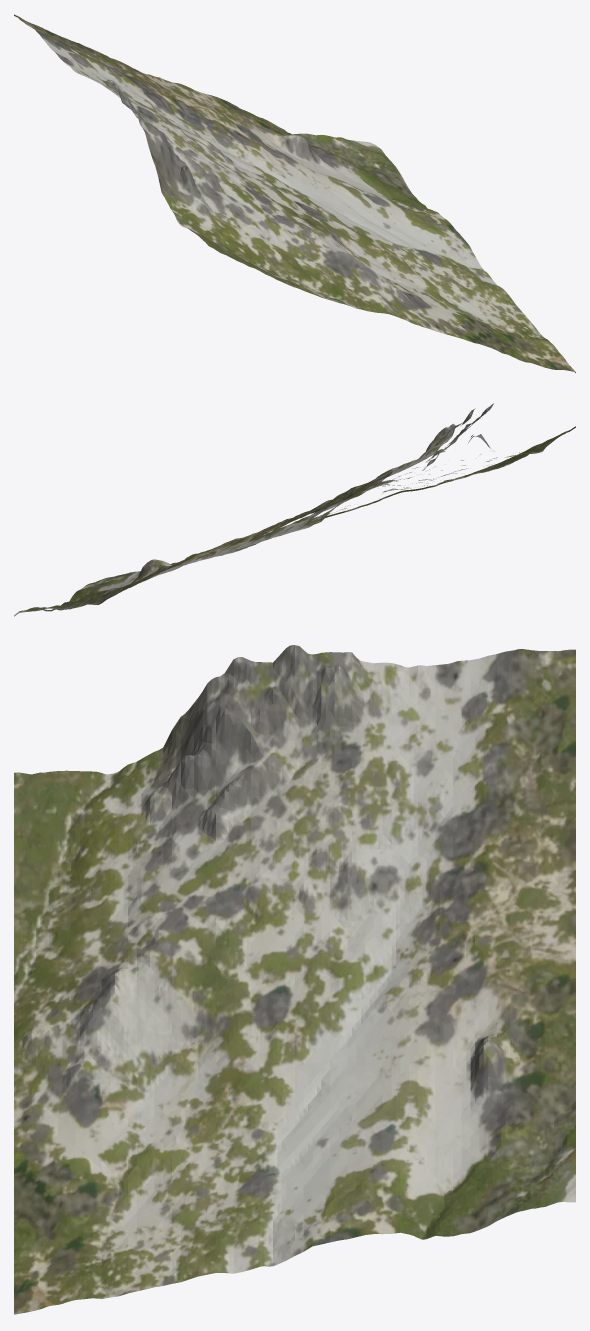
3 renders of one model, top to bottom at view 1: azimuth 30°, elevation 25°; view 2: azimuth 150°, elevation 25°; view 3: azimuth 270°, elevation 25°, orthographic. The views are drawn at different scales.
Bounding box in the file's own units: 250 × 201 × 241.
Materials: 1 (1 with a texture image).
